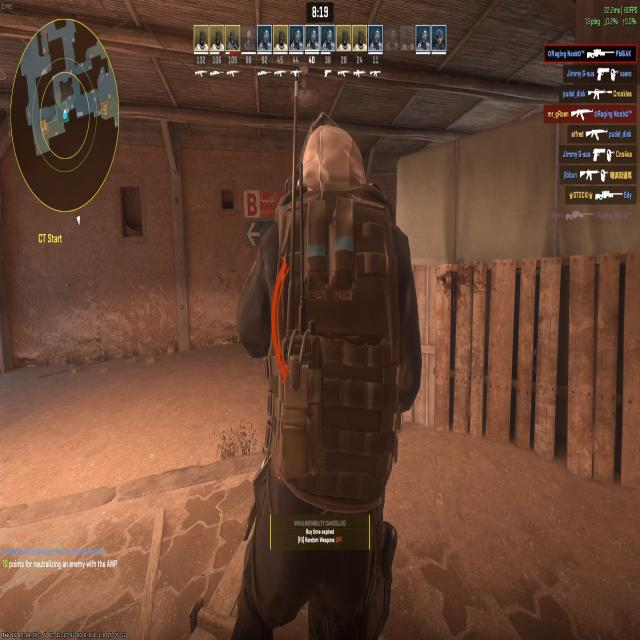player: (222, 96, 430, 640)
